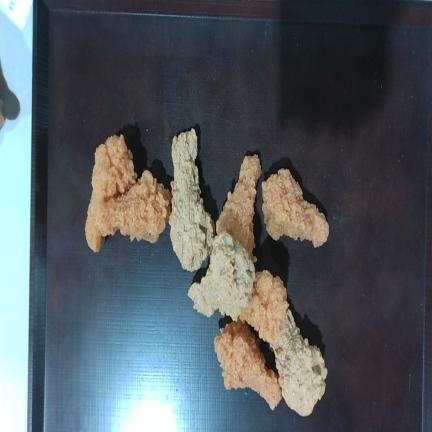chicken: (169, 128, 214, 271), (85, 135, 137, 251), (214, 320, 281, 410), (270, 310, 327, 415), (188, 232, 255, 319), (98, 170, 171, 243), (262, 169, 329, 247), (216, 155, 261, 262), (240, 270, 288, 348)
